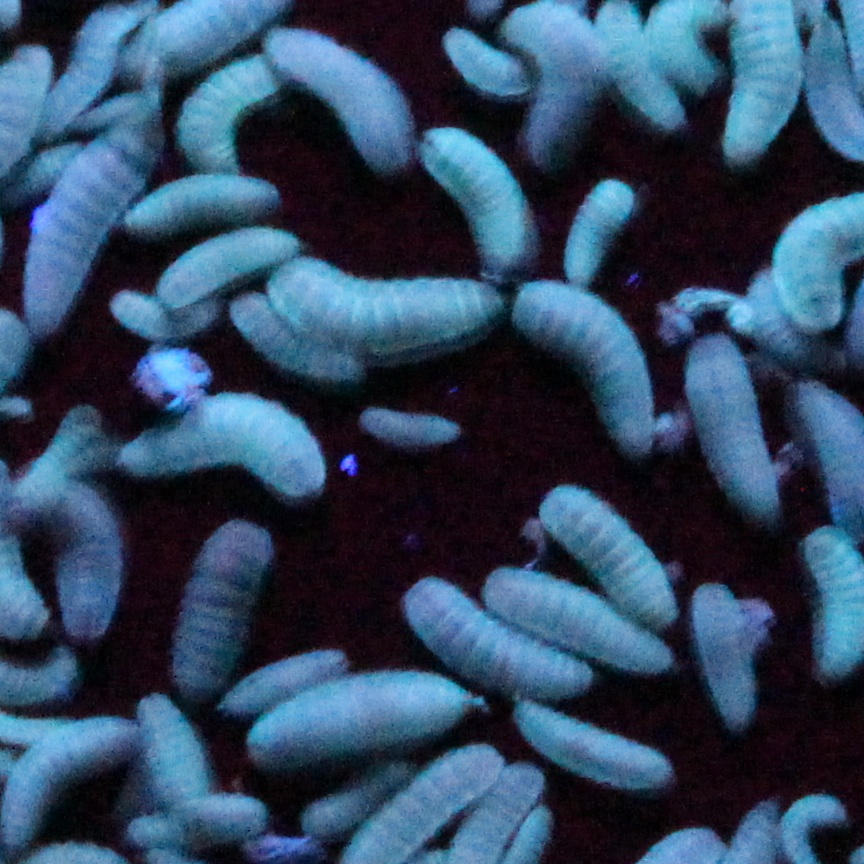larve: (20, 115, 161, 337), (270, 248, 505, 368), (398, 570, 590, 710), (509, 279, 649, 453), (261, 20, 418, 171), (110, 393, 334, 495), (678, 331, 787, 533), (165, 511, 281, 699), (252, 666, 474, 764), (481, 566, 674, 677), (529, 488, 678, 626), (25, 464, 136, 631), (1, 715, 141, 844), (512, 695, 672, 802), (421, 130, 547, 264), (178, 50, 290, 177), (512, 2, 598, 159), (690, 579, 772, 737), (238, 295, 367, 393), (158, 226, 300, 302), (212, 642, 347, 719), (127, 171, 285, 235), (138, 688, 210, 819), (136, 791, 278, 846), (565, 173, 632, 280), (109, 288, 232, 344), (350, 406, 467, 457), (440, 28, 534, 91)
